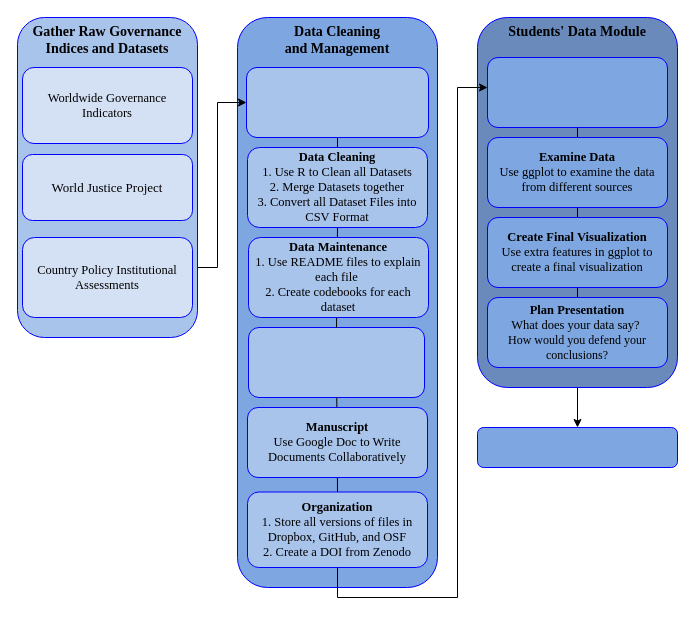
Image size: 695x623. Some labels were removed from this diagram. Here are the shapes that lost their labels. From the top down, the centre of each, then its label:
(x=337, y=102): Data Storage Store Raw Datasets in Dropbox and GitHub
(x=577, y=92): Data Storage Download Dataset from GitHub
(x=336, y=362): R Sample Create a Script in R to Guide Students through Data Visualizations
(x=577, y=447): Present Findings
